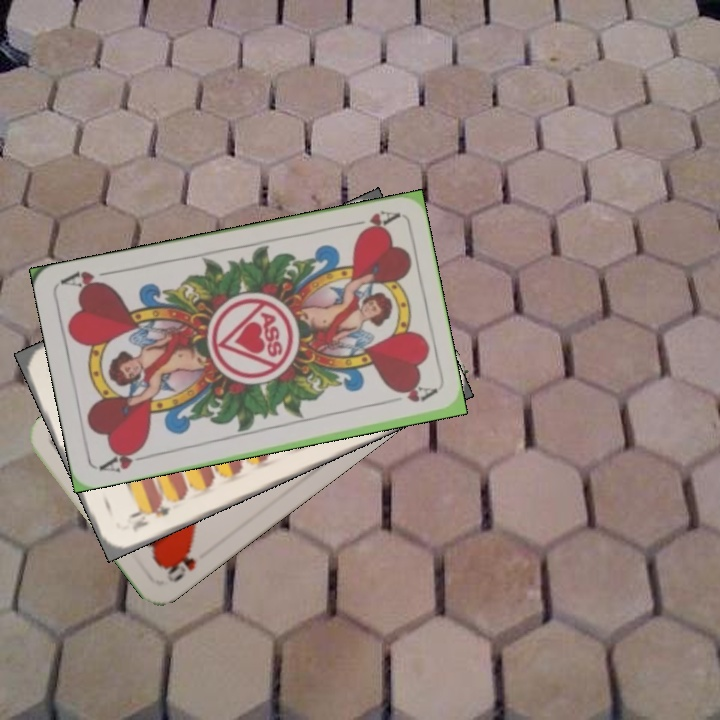E10: (126, 499, 174, 535)
HA: (95, 442, 153, 475), (342, 206, 401, 237)
HO: (161, 545, 199, 585)
